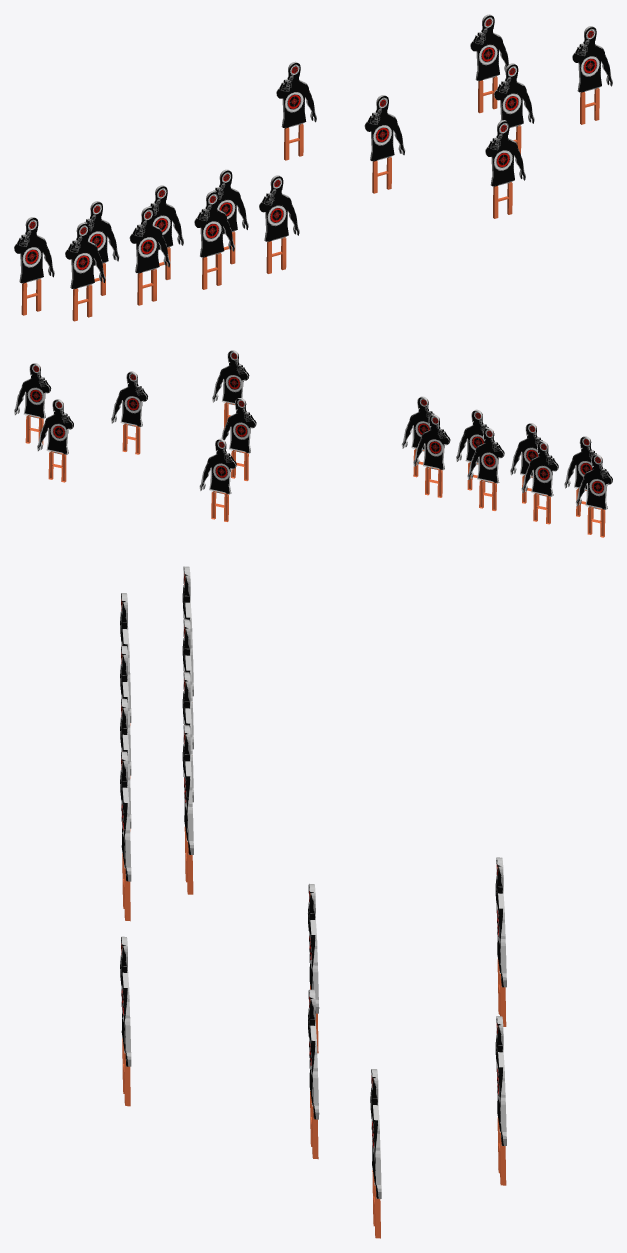
The model's file is target.glb.
3 renders of one model, top to bottom at view 1: azimuth 30°, elevation 25°; view 2: azimuth 150°, elevation 25°; view 3: azimuth 270°, elevation 25°, orthographic. The views are drawn at different scales.
Parts seen in each view (by area): view 1: Target.008, Target.012, Target.001, Target.011, Target.002, Target.009, Target.003, Target, Target.004, Target.015, Target.010, Target.007 (+2 smaller); view 2: Target.004, Target.015, Target.010, Target.005, Target.007, Target.012, Target.006, Target.011, Target.008, Target.009, Target.003, Target.002 (+2 smaller); view 3: Target.007, Target.003, Target.015, Target.009, Target.011, Target.010, Target.012, Target.008.
Boxes of the visible parts, x1,y1,x2,y2 form: Target.008: [364, 95, 405, 193]; Target.012: [276, 61, 316, 160]; Target.001: [129, 207, 170, 305]; Target.011: [572, 26, 612, 124]; Target.002: [194, 191, 234, 289]; Target.009: [485, 120, 525, 218]; Target.003: [259, 175, 299, 273]; Target: [65, 222, 105, 321]; Target.004: [14, 217, 54, 315]; Target.015: [470, 14, 509, 113]; Target.010: [494, 63, 534, 154]; Target.007: [213, 169, 248, 266]; Target.004: [575, 454, 612, 537]; Target.015: [37, 399, 73, 482]; Target.010: [111, 371, 147, 454]; Target.005: [521, 441, 558, 524]; Target.007: [413, 414, 450, 497]; Target.012: [199, 438, 236, 521]; Target.006: [467, 428, 504, 510]; Target.011: [14, 363, 51, 444]; Target.008: [221, 398, 256, 480]; Target.009: [212, 350, 249, 428]; Target.003: [401, 396, 434, 479]; Target.002: [456, 409, 488, 492]; Target.007: [182, 725, 193, 894]; Target.003: [120, 751, 131, 921]; Target.015: [495, 1016, 506, 1185]; Target.009: [120, 936, 131, 1106]; Target.011: [370, 1069, 381, 1238]; Target.010: [308, 989, 319, 1159]; Target.012: [495, 857, 506, 1026]; Target.008: [308, 883, 319, 1053].
Bounding box in the file's own units: 20.27 × 2.83 × 6.18.
Materials: 1 (1 with a texture image).
